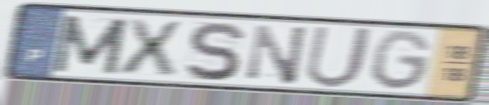G: (369, 28, 435, 93)
M: (49, 13, 132, 77)
N: (245, 22, 311, 87)
S: (183, 19, 247, 83)
U: (302, 23, 377, 90)
X: (116, 17, 185, 77)
